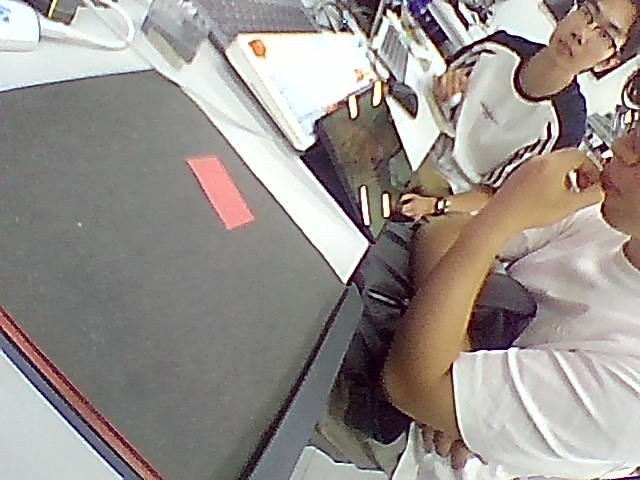card: (188, 157, 254, 229)
